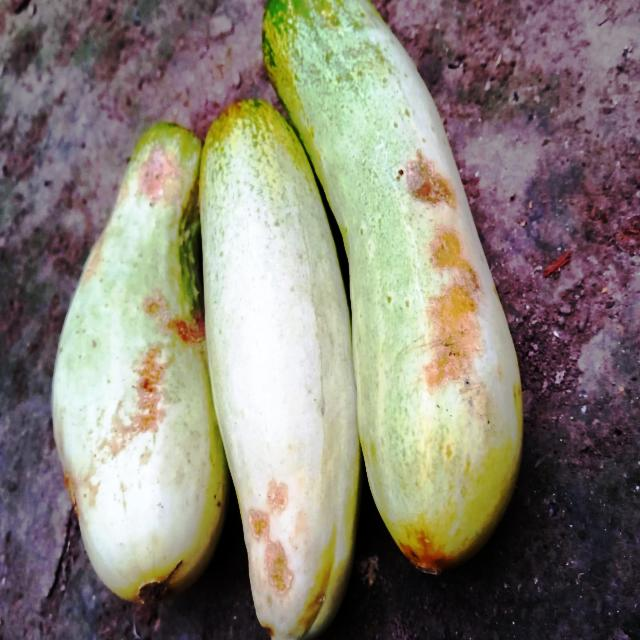Belly-Rot: (393, 152, 489, 388), (118, 282, 207, 437), (246, 477, 298, 615), (136, 140, 176, 210), (58, 448, 84, 524)
